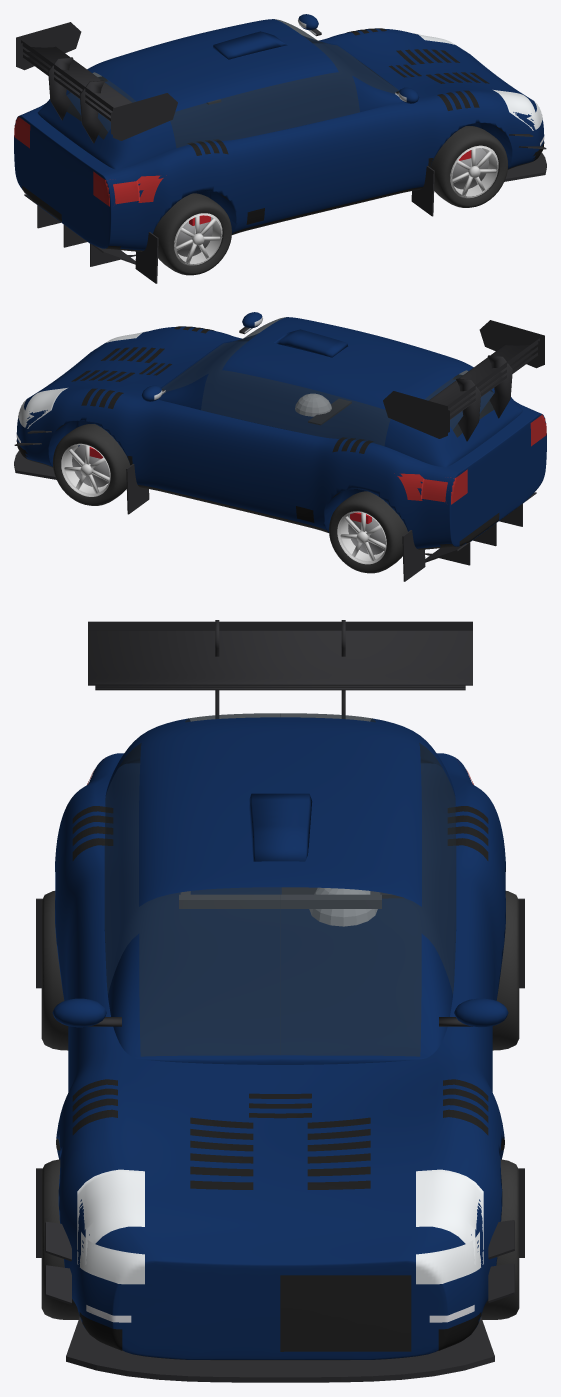
Rendered from hyundai_i20_rx.glb.
3 renders of one model, top to bottom at view 1: azimuth 30°, elevation 25°; view 2: azimuth 150°, elevation 25°; view 3: azimuth 270°, elevation 25°, orthographic. The views are drawn at different scales.
Parts seen in each view (by area): view 1: body, cabin, bumper_rear, wing_rear_up3, wheel_fr_spin, wheel_rr_spin, bumper_front, mudflaps, diffuser, wing_rear_up2, wing_rear, splitter_up; view 2: body, cabin, bumper_rear, wing_rear_up3, wheel_fl_spin, wheel_rl_spin, bumper_front, mudflaps, diffuser, interior, wing_rear_up2, wing_rear (+1 smaller); view 3: body, cabin, bumper_front, wing_rear_up3, splitter_up, interior, splitter, canards, wheel_rl_spin, wheel_rr_spin, wheel_fl_spin, wheel_fr_spin (+6 smaller).
Boxes of the visible parts, x1=… form: body: x1=43, y1=28, x2=512, y2=251; cabin: x1=37, y1=19, x2=402, y2=169; bumper_rear: x1=14, y1=105, x2=139, y2=251; wing_rear_up3: x1=16, y1=22, x2=177, y2=143; wheel_fr_spin: x1=430, y1=126, x2=507, y2=207; wheel_rr_spin: x1=153, y1=193, x2=231, y2=275; bumper_front: x1=413, y1=33, x2=544, y2=169; mudflaps: x1=135, y1=166, x2=434, y2=283; diffuser: x1=24, y1=194, x2=135, y2=266; wing_rear_up2: x1=18, y1=35, x2=112, y2=132; wing_rear: x1=18, y1=42, x2=112, y2=134; splitter_up: x1=504, y1=152, x2=546, y2=181; body: x1=48, y1=326, x2=517, y2=549; cabin: x1=158, y1=317, x2=522, y2=467; bumper_rear: x1=421, y1=403, x2=546, y2=549; wing_rear_up3: x1=383, y1=320, x2=544, y2=441; wheel_fl_spin: x1=53, y1=424, x2=130, y2=505; wheel_rl_spin: x1=329, y1=491, x2=407, y2=573; bumper_front: x1=16, y1=331, x2=147, y2=467; mudflaps: x1=126, y1=464, x2=425, y2=581; diffuser: x1=425, y1=492, x2=536, y2=565; interior: x1=295, y1=393, x2=351, y2=425; wing_rear_up2: x1=448, y1=333, x2=542, y2=429; wing_rear: x1=448, y1=340, x2=542, y2=432; body: x1=55, y1=772, x2=505, y2=1267; cabin: x1=104, y1=713, x2=456, y2=1064; bumper_front: x1=64, y1=1169, x2=496, y2=1360; wing_rear_up3: x1=88, y1=620, x2=472, y2=718; splitter_up: x1=66, y1=1317, x2=494, y2=1382; interior: x1=179, y1=887, x2=404, y2=926; splitter: x1=73, y1=1325, x2=487, y2=1371; canards: x1=45, y1=1220, x2=514, y2=1304; wheel_rl_spin: x1=492, y1=891, x2=519, y2=1050; wheel_rr_spin: x1=41, y1=891, x2=68, y2=1050; wheel_fl_spin: x1=481, y1=1159, x2=519, y2=1319; wheel_fr_spin: x1=41, y1=1159, x2=79, y2=1319.
Bounding box in the file's own units: 4.2 × 1.61 × 1.97.
